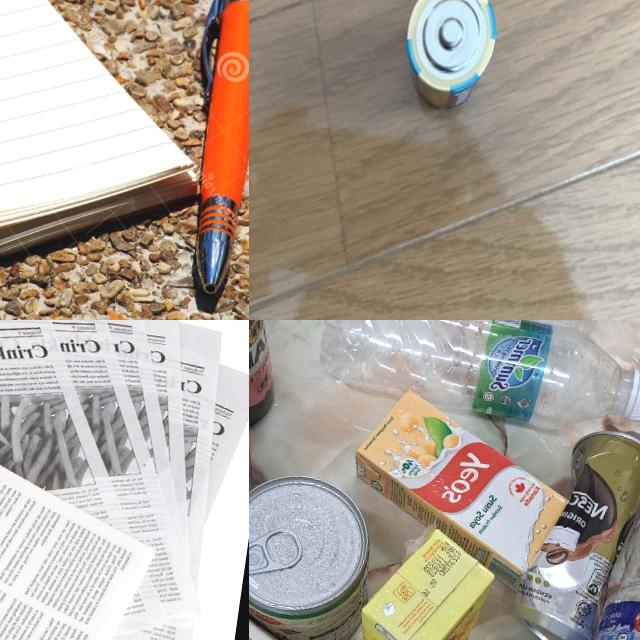aba de lata: (249, 522, 304, 585)
bateria: (393, 0, 510, 119)
caixinha: (342, 382, 576, 586), (350, 518, 493, 640)
garrafa de vidro: (249, 320, 297, 427), (249, 349, 265, 592)
garrafa plástica: (308, 320, 640, 436), (547, 390, 640, 640), (485, 320, 637, 361)
lata: (505, 414, 640, 640), (249, 471, 380, 640)
papel: (0, 320, 249, 640), (0, 0, 232, 286)
tampa plástica: (623, 368, 640, 424)
